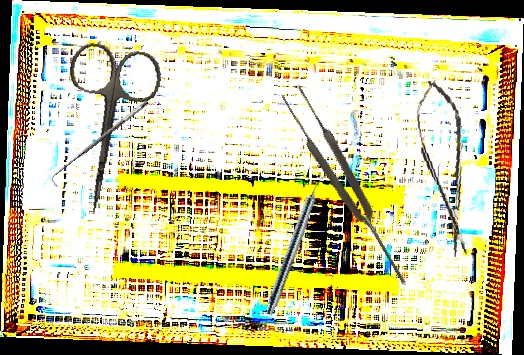Handpiece: (263, 172, 328, 318)
Hook Surgical: (46, 99, 155, 188)
Iris Scissors: (46, 40, 166, 222)
Micro Scissor: (412, 77, 478, 260)
Tissue Forceps: (278, 82, 416, 293)
